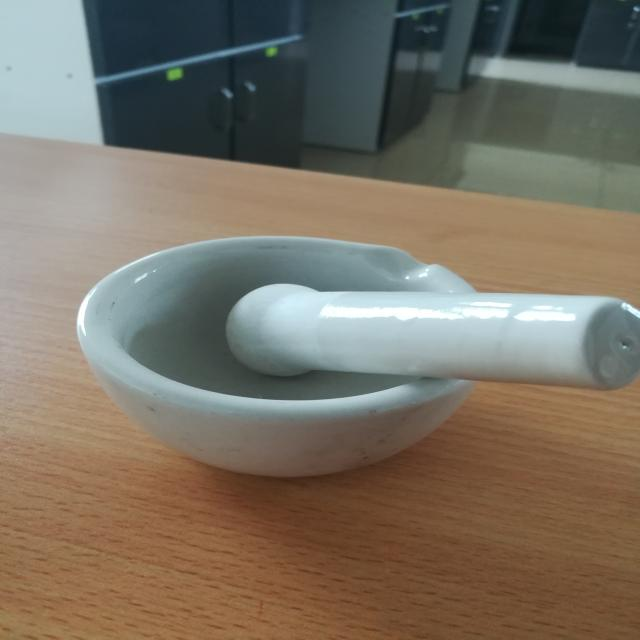Porcelain_Mortar Pestle: (50, 215, 640, 520)
